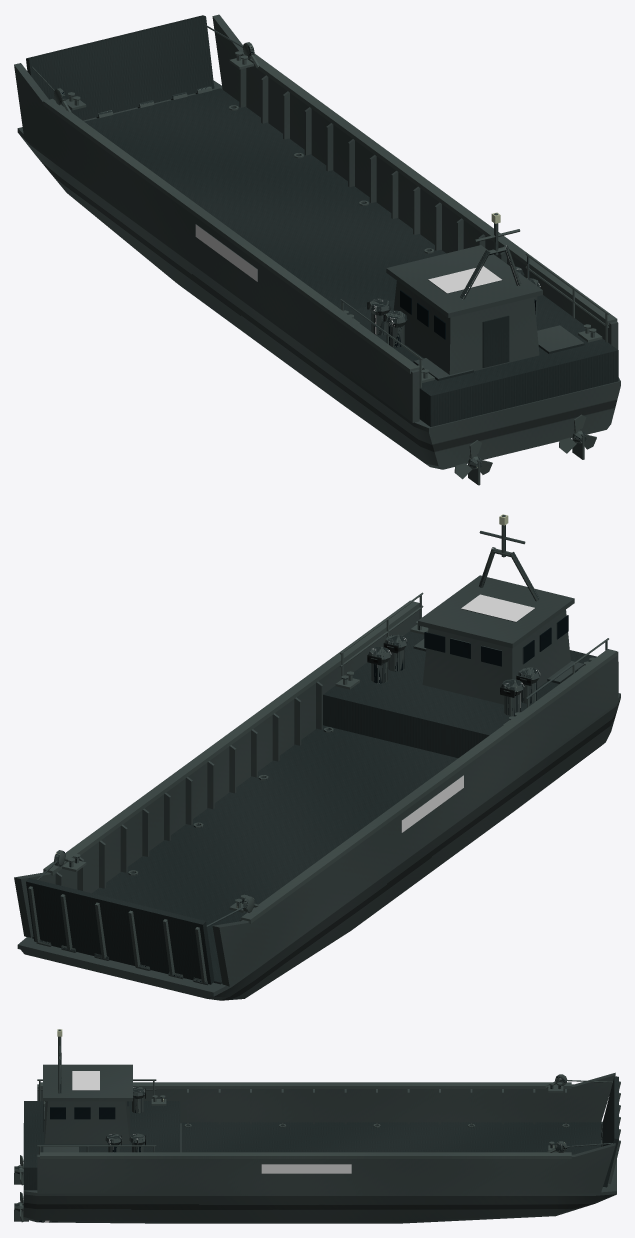
Rendered from landing_craft_lod1.glb.
The picture shows the model from 3 angles, top to bottom: view 1: azimuth 30°, elevation 25°; view 2: azimuth 150°, elevation 25°; view 3: azimuth 270°, elevation 25°; orthographic projection. The views are drawn at different scales.
Parts seen in each view (by area): view 1: hull, deck, superstructure, bow_ramp, fittings, propulsion, mast; view 2: hull, deck, superstructure, bow_ramp, fittings, mast; view 3: hull, deck, superstructure, fittings, bow_ramp, propulsion.
Part boxes in pixels (left/top/right/bottom): hull: left=14, top=14, right=620, bottom=469; deck: left=84, top=88, right=618, bottom=426; superstructure: left=386, top=245, right=542, bottom=374; bow_ramp: left=26, top=15, right=214, bottom=120; fittings: left=54, top=42, right=608, bottom=387; propulsion: left=454, top=414, right=596, bottom=485; mast: left=460, top=212, right=521, bottom=299; hull: left=14, top=600, right=620, bottom=1000; deck: left=32, top=631, right=618, bottom=984; superstructure: left=418, top=575, right=574, bottom=704; bow_ramp: left=26, top=878, right=214, bottom=984; fittings: left=54, top=592, right=608, bottom=912; mast: left=479, top=514, right=539, bottom=601; hull: left=23, top=1072, right=616, bottom=1223; deck: left=24, top=1101, right=601, bottom=1190; superstructure: left=43, top=1064, right=132, bottom=1144; fittings: left=37, top=1074, right=567, bottom=1154; bow_ramp: left=602, top=1076, right=620, bottom=1187; propulsion: left=14, top=1155, right=28, bottom=1222.
Size of the model in its own units: 6.56 by 7.14 by 22.94.
1 material, 1 textured.
